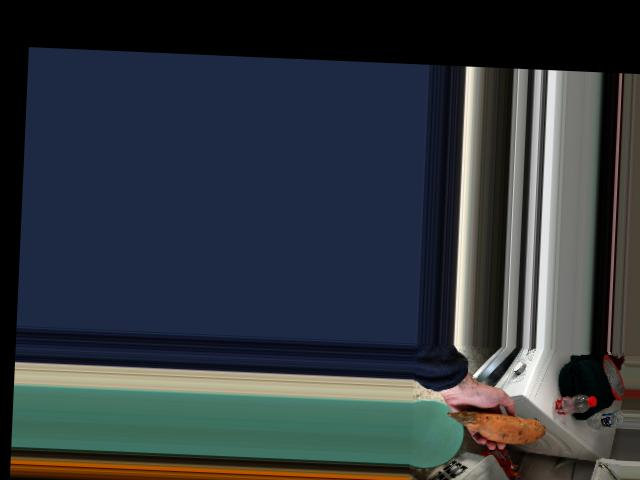sweet_potato: (436, 416, 542, 448)
